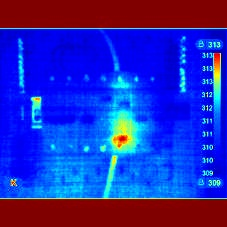High: (104, 108, 142, 165)
